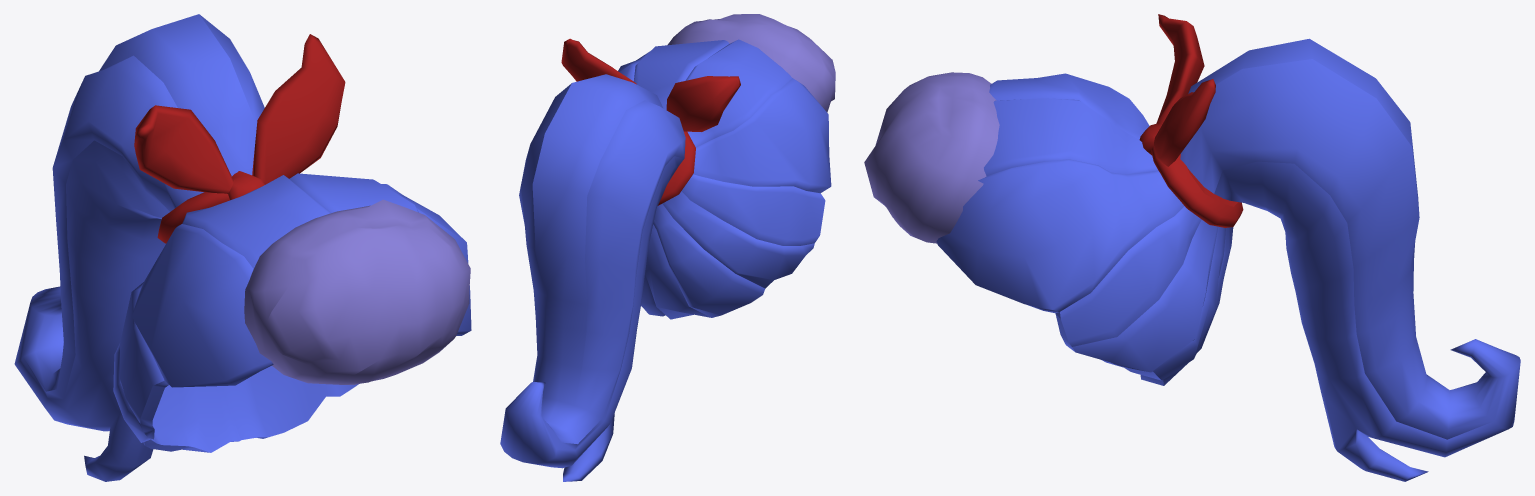
The model's file is Hair_06_03.fbx.
3 renders of one model, left to right at view 1: azimuth 30°, elevation 25°; view 2: azimuth 150°, elevation 25°; view 3: azimuth 270°, elevation 25°, orthographic. The views are drawn at different scales.
Visible parts, largest first — view 1: Hair_06_03; view 2: Hair_06_03; view 3: Hair_06_03.
Boxes of the visible parts, left/top/right/bottom form: Hair_06_03: left=14, top=14, right=471, bottom=481; Hair_06_03: left=500, top=14, right=835, bottom=481; Hair_06_03: left=864, top=14, right=1520, bottom=481.
Size of the model in its own units: 39.37 by 59.41 by 78.66.
